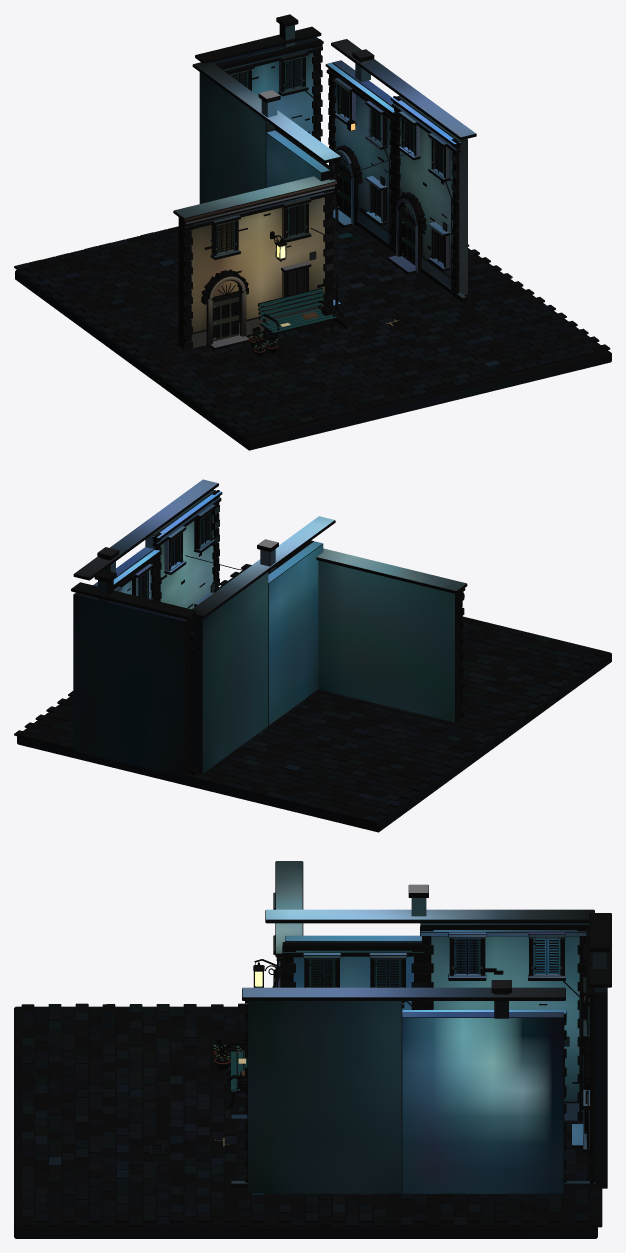
Rendered from night-alley.glb.
The picture shows the model from 3 angles, top to bottom: view 1: azimuth 30°, elevation 25°; view 2: azimuth 150°, elevation 25°; view 3: azimuth 270°, elevation 25°; orthographic projection. The views are drawn at different scales.
Visible parts, largest first — view 1: NightAlley_Baked_Static, Backdrop_NightAlley, Refinement_Walnut joinery.001; view 2: Backdrop_NightAlley, NightAlley_Baked_Static; view 3: NightAlley_Baked_Static, Backdrop_NightAlley, Refinement_Walnut joinery.001.
Part boxes in pixels (x1,y1,x2,y2): NightAlley_Baked_Static: [15, 95, 611, 450]; Backdrop_NightAlley: [14, 14, 479, 344]; Refinement_Walnut joinery.001: [217, 57, 443, 332]; Backdrop_NightAlley: [14, 479, 478, 832]; NightAlley_Baked_Static: [23, 490, 611, 831]; NightAlley_Baked_Static: [14, 861, 596, 1238]; Backdrop_NightAlley: [231, 884, 611, 1237]; Refinement_Walnut joinery.001: [231, 938, 559, 1090].
Size of the model in its own units: 13.94 by 7.07 by 15.88.
11 materials, 6 textured.
